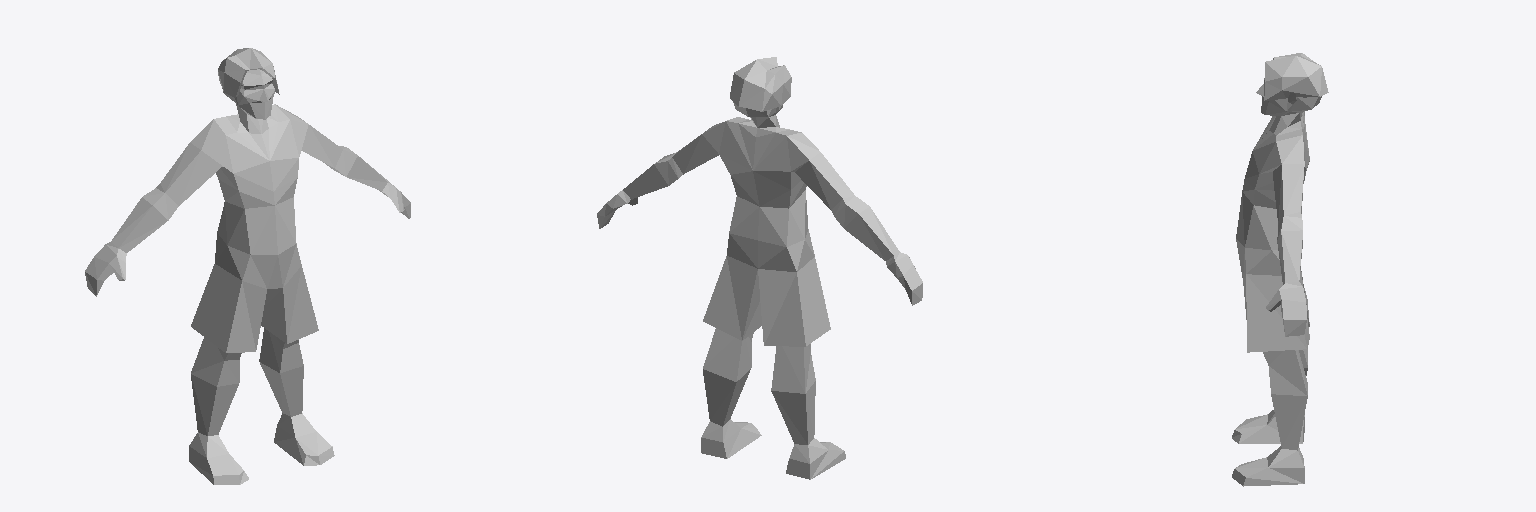
File: Audience Silhouette 3.obj
3 renders of one model, left to right at view 1: azimuth 30°, elevation 25°; view 2: azimuth 150°, elevation 25°; view 3: azimuth 270°, elevation 25°, orthographic.
Visible parts, largest first — view 1: Mesh_0123; view 2: Mesh_0123; view 3: Mesh_0123.
Part boxes in pixels (bbox=[...]): Mesh_0123: bbox=[85, 48, 410, 484]; Mesh_0123: bbox=[597, 57, 922, 479]; Mesh_0123: bbox=[1232, 53, 1328, 486].
Size of the model in its own units: 1.84 by 2.25 by 0.4899.